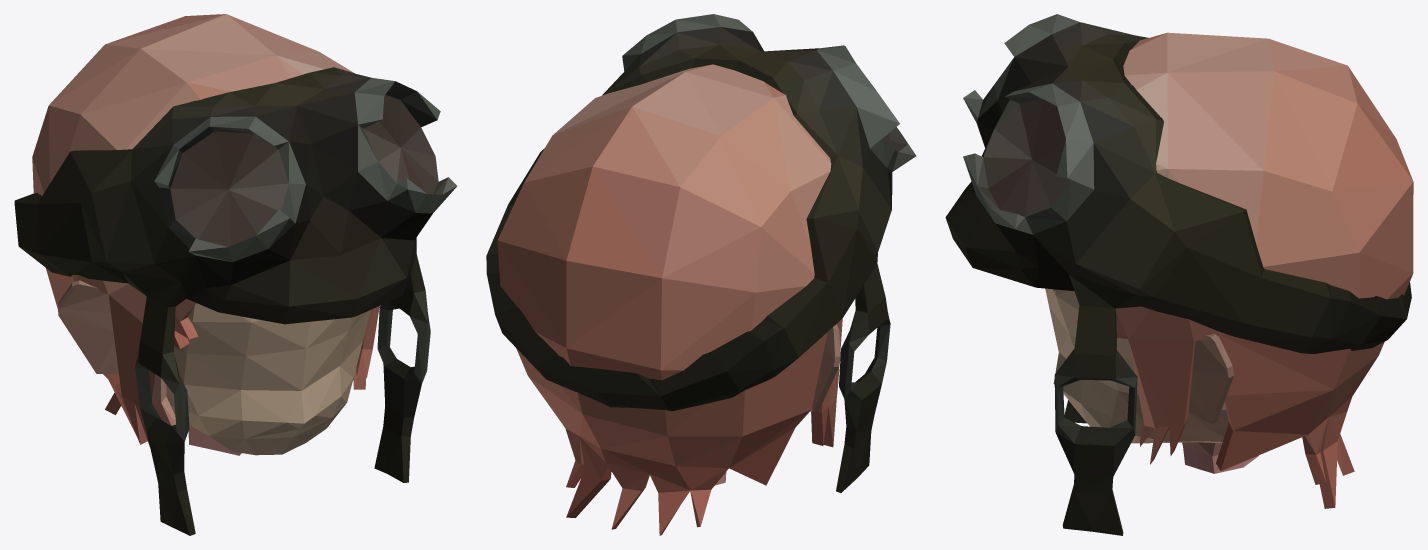
The model's file is helm_lightskin_standard_blonde_goggles.fbx.
3 views of the same model, side by side, from view 1: azimuth 30°, elevation 25°; view 2: azimuth 150°, elevation 25°; view 3: azimuth 270°, elevation 25° (orthographic). The views are drawn at different scales.
Parts seen in each view (by area): view 1: helm_lightskin_standard_blonde_goggles; view 2: helm_lightskin_standard_blonde_goggles; view 3: helm_lightskin_standard_blonde_goggles.
Part boxes in pixels (x1,y1,x2,y2): helm_lightskin_standard_blonde_goggles: (14,14,456,535); helm_lightskin_standard_blonde_goggles: (486,14,916,535); helm_lightskin_standard_blonde_goggles: (945,14,1413,535).
Size of the model in its own units: 1.19 by 1.39 by 1.39.
